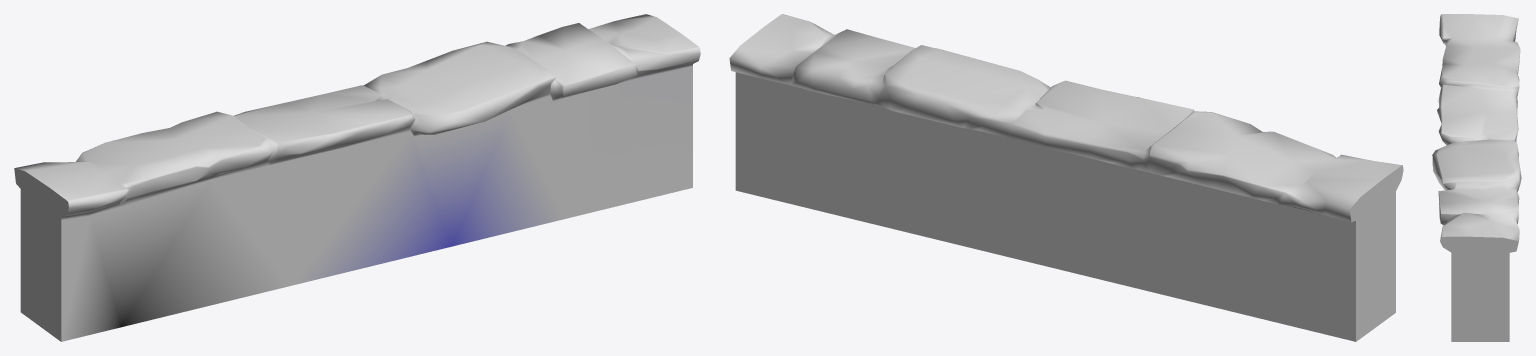
The model's file is SM_Throne_Exterior_CoverB_3.FBX.
The picture shows the model from 3 angles, left to right: view 1: azimuth 30°, elevation 25°; view 2: azimuth 150°, elevation 25°; view 3: azimuth 270°, elevation 25°; orthographic projection. The views are drawn at different scales.
Parts seen in each view (by area): view 1: SM_Throne_Exterior_CoverB_3; view 2: SM_Throne_Exterior_CoverB_3; view 3: SM_Throne_Exterior_CoverB_3.
Part boxes in pixels (box(x1,y1,x2,y2)): SM_Throne_Exterior_CoverB_3: box(14, 14, 700, 341); SM_Throne_Exterior_CoverB_3: box(729, 14, 1403, 341); SM_Throne_Exterior_CoverB_3: box(1432, 14, 1521, 341).
Bounding box in the file's own units: 640 × 108 × 149.
